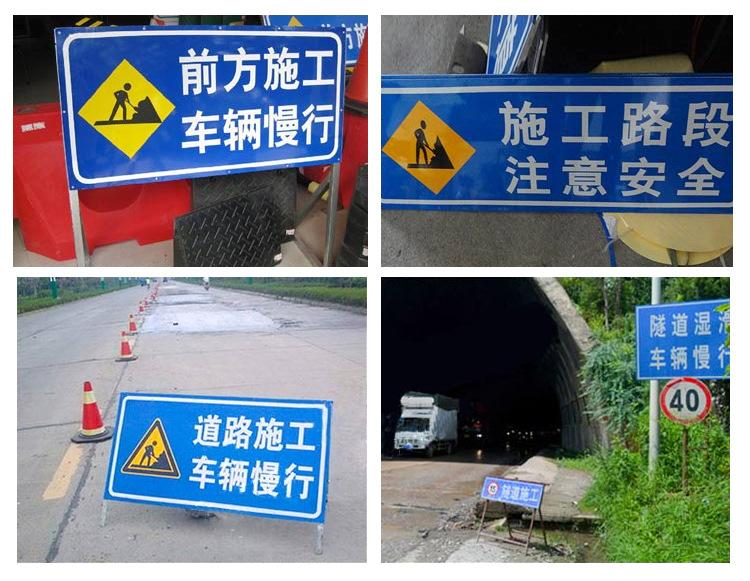sign: (387, 83, 732, 211), (56, 34, 342, 168), (122, 394, 324, 510), (483, 479, 545, 509)
